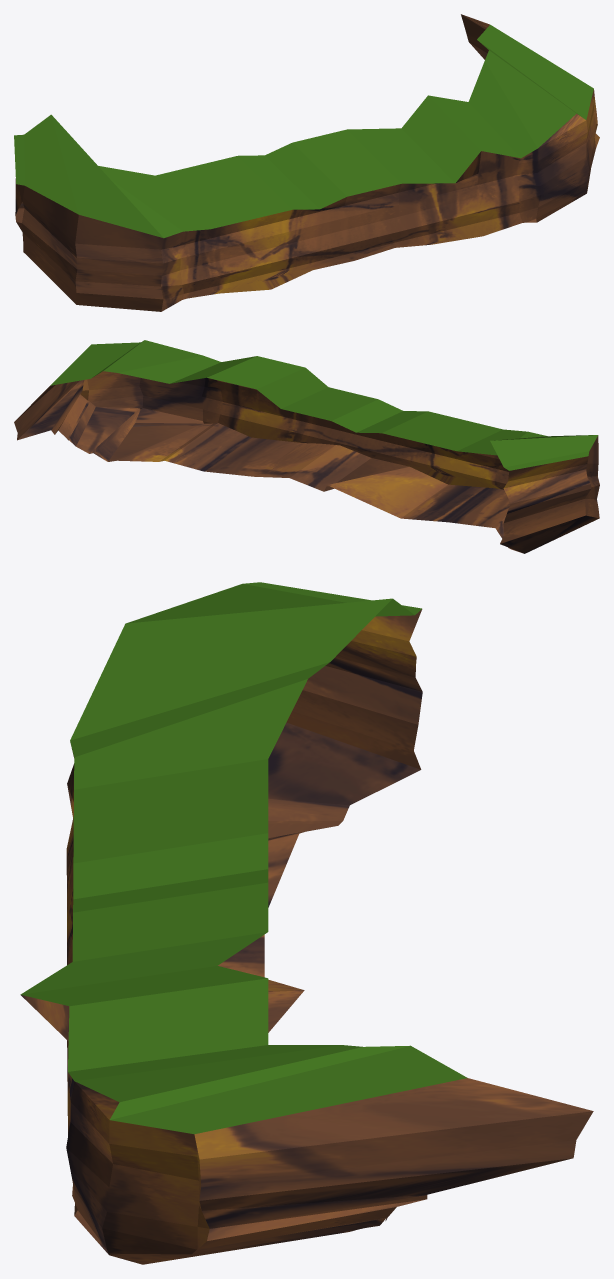
The model's file is sali85.obj.
3 views of the same model, one above another, from view 1: azimuth 30°, elevation 25°; view 2: azimuth 150°, elevation 25°; view 3: azimuth 270°, elevation 25° (orthographic). The views are drawn at different scales.
Visible parts, largest first — view 1: Plane.052_Plane.057; view 2: Plane.052_Plane.057; view 3: Plane.052_Plane.057.
Boxes of the visible parts, x1,y1,x2,y2 form: Plane.052_Plane.057: [14, 14, 599, 311]; Plane.052_Plane.057: [14, 340, 599, 553]; Plane.052_Plane.057: [20, 582, 593, 1264].
Size of the model in its own units: 321 by 77.29 by 152.
Materials: 1 (1 with a texture image).
